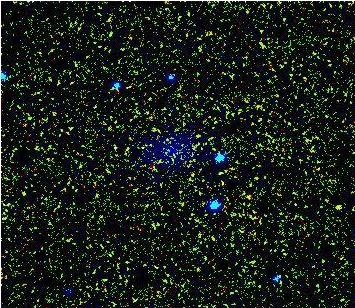star: (322, 193, 352, 223)
